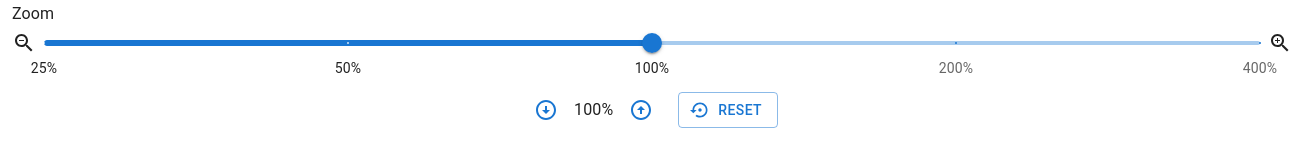
Test: ZoomMenuItem › decreases zoom to .95 when zoom out button is clicked
Click the button named "Zoom out".
click(546, 110)  # box [526,90,566,130]
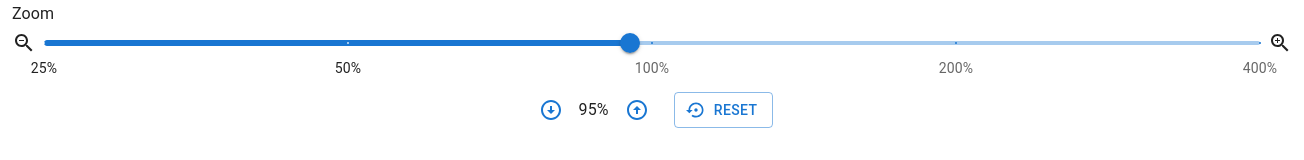
expect the text named "Zoom amount" reads "95%": met, box [579,100,609,119]
